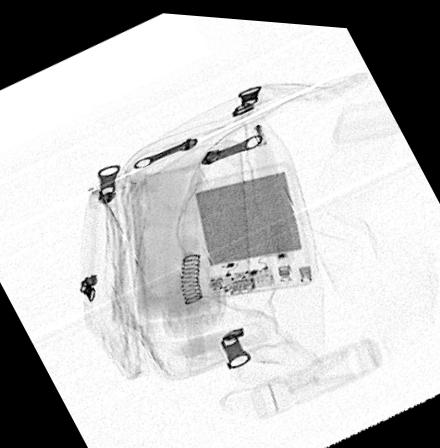Powerbank: (192, 154, 313, 295)
